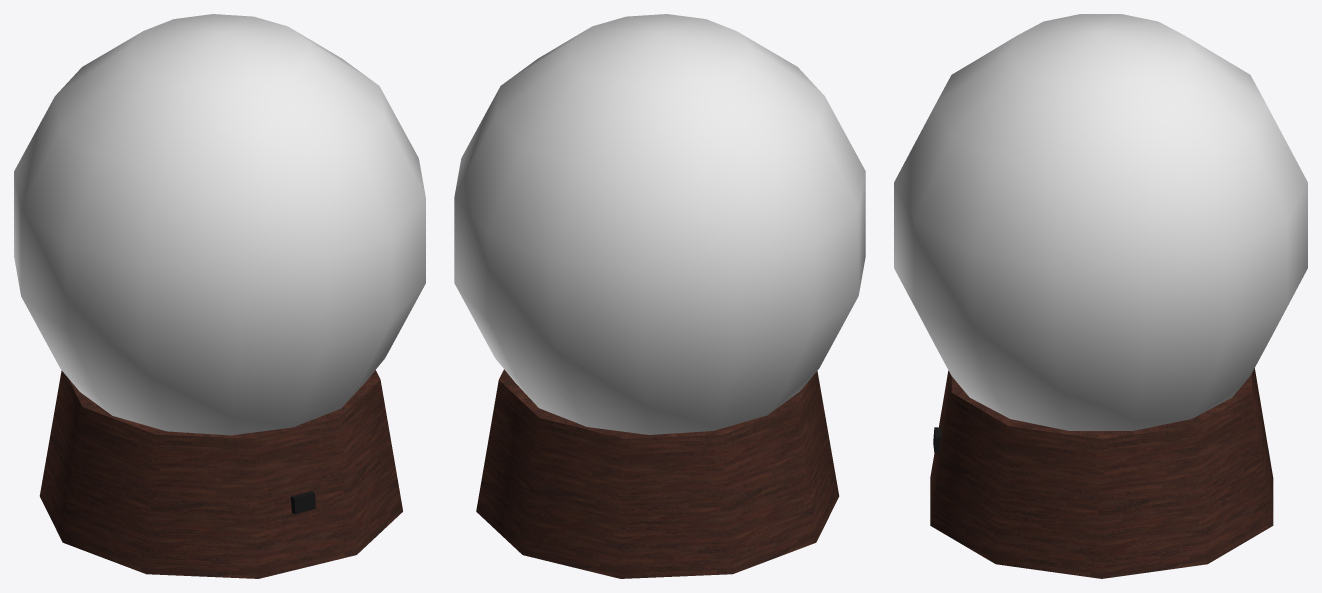
The model's file is 02 pyramid music box.fbx.
3 renders of one model, left to right at view 1: azimuth 30°, elevation 25°; view 2: azimuth 150°, elevation 25°; view 3: azimuth 270°, elevation 25°, orthographic.
Visible parts, largest first — view 1: Sphere001, Cylinder001; view 2: Sphere001, Cylinder001; view 3: Sphere001, Cylinder001.
Part boxes in pixels (x1=…): Sphere001: x1=14, y1=14, x2=425, y2=435; Cylinder001: x1=39, y1=370, x2=402, y2=578; Sphere001: x1=454, y1=14, x2=865, y2=434; Cylinder001: x1=476, y1=369, x2=839, y2=578; Sphere001: x1=894, y1=14, x2=1307, y2=430; Cylinder001: x1=930, y1=368, x2=1273, y2=578.
Bounding box in the file's own units: 73.89 × 94.56 × 75.79.
Materials: 3 (2 with a texture image).
